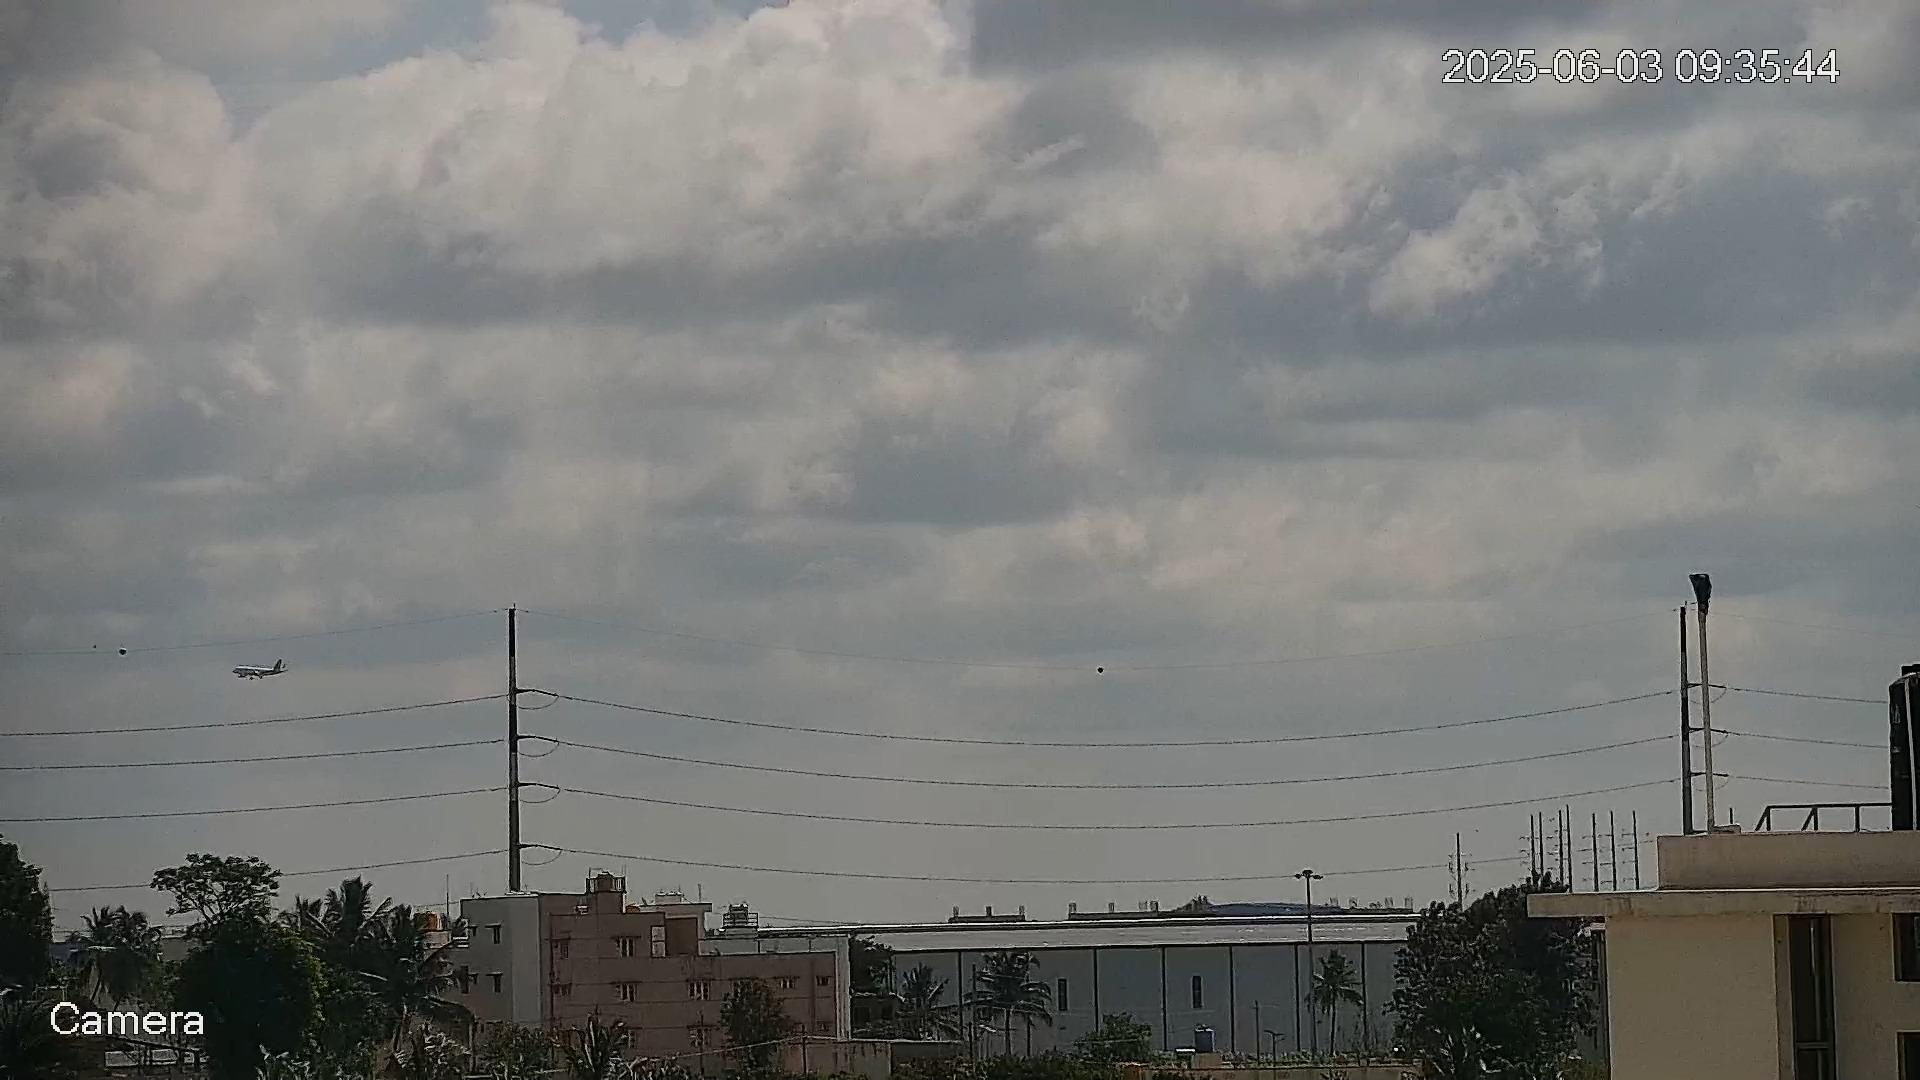Aircraft: (231, 658, 289, 680)
